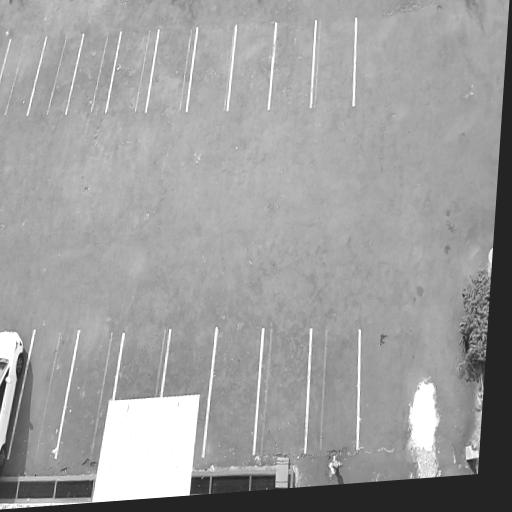Car: (0, 323, 35, 473)
Space Available: (7, 330, 79, 459), (56, 329, 121, 456), (203, 327, 263, 455), (254, 329, 311, 452), (305, 326, 361, 450), (66, 31, 121, 115), (27, 32, 83, 113), (107, 27, 159, 111), (147, 27, 197, 112), (228, 23, 276, 109), (188, 26, 236, 111), (113, 329, 171, 399), (161, 326, 216, 399), (312, 14, 356, 104), (269, 21, 315, 107), (0, 36, 47, 114)
